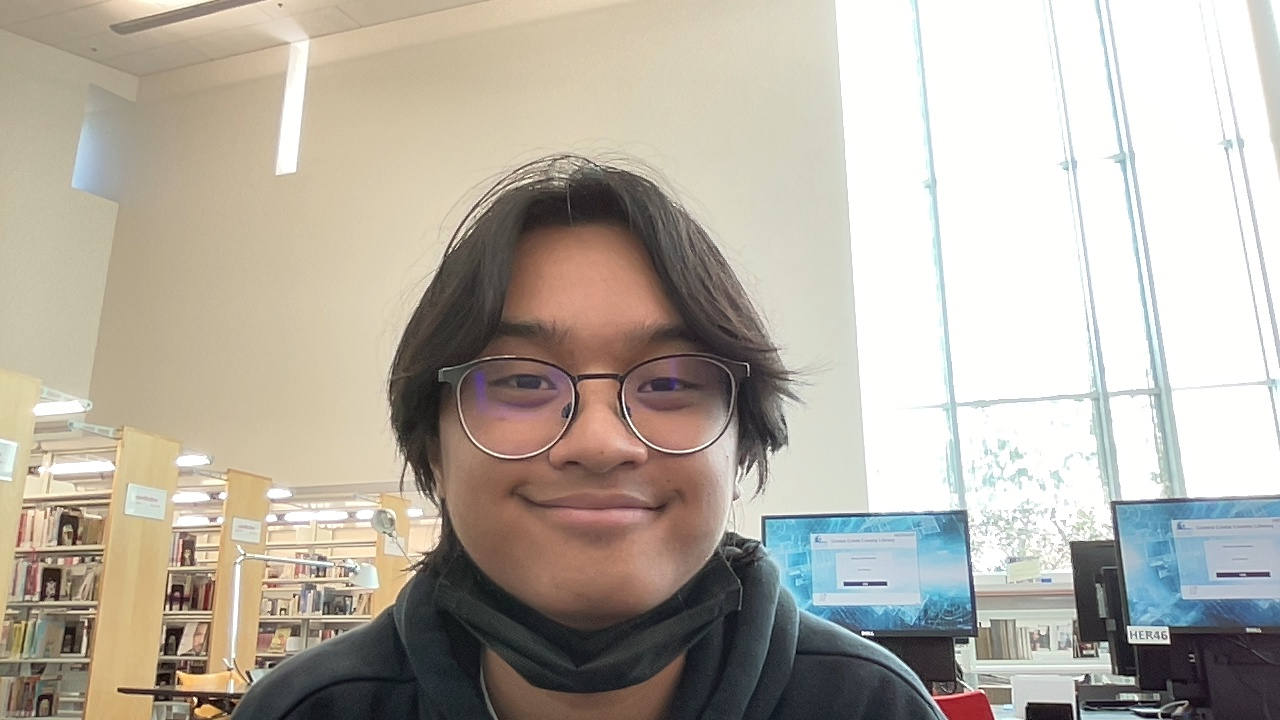happy: (424, 216, 751, 631)
